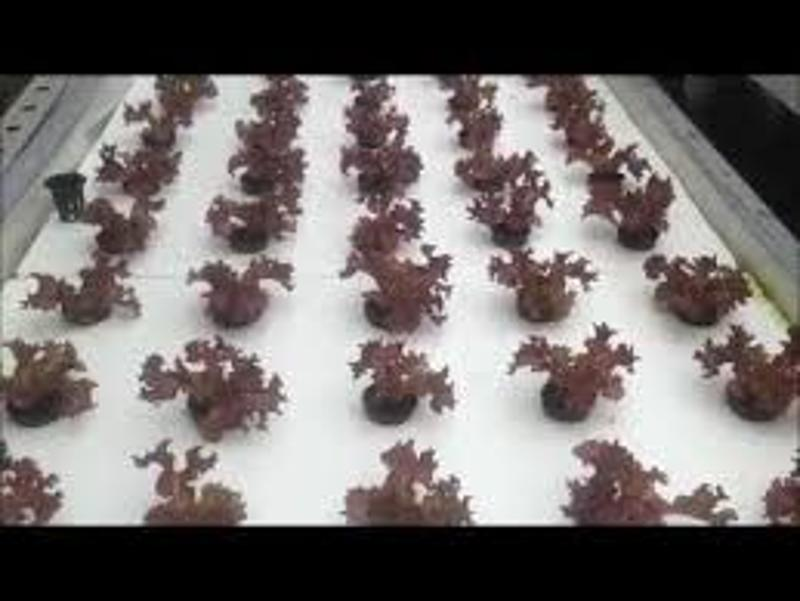red lettuce: (143, 341, 290, 442), (562, 439, 721, 529), (508, 326, 628, 422), (346, 443, 473, 524), (347, 249, 466, 332), (137, 446, 254, 524), (3, 335, 98, 427), (22, 256, 143, 326), (357, 340, 453, 424), (646, 254, 750, 325), (189, 258, 296, 319), (495, 248, 586, 319), (206, 183, 301, 249), (597, 174, 674, 241), (477, 178, 550, 247), (83, 195, 165, 253), (104, 139, 180, 194), (343, 145, 418, 197), (353, 201, 425, 248), (230, 144, 307, 183), (458, 147, 532, 186), (231, 109, 303, 148), (343, 103, 410, 143), (450, 107, 505, 145)
